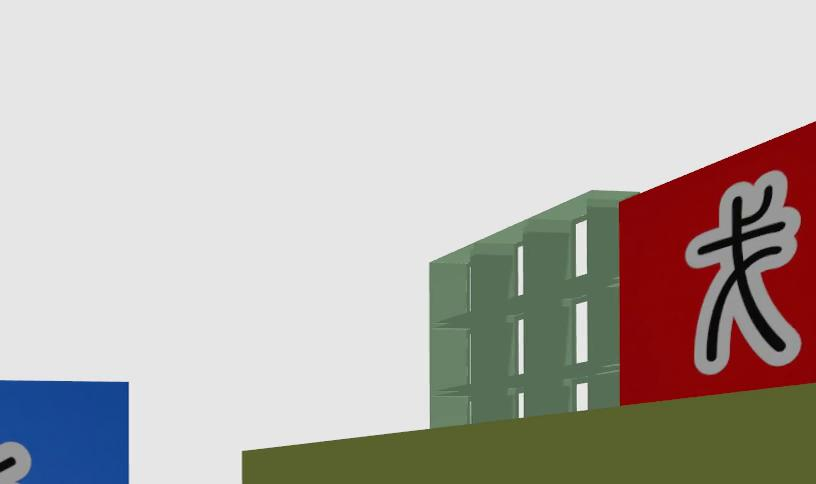KFS_FAKE: (620, 123, 815, 404), (686, 170, 800, 374)
KFS_REAL: (0, 381, 127, 484), (0, 438, 31, 484)
